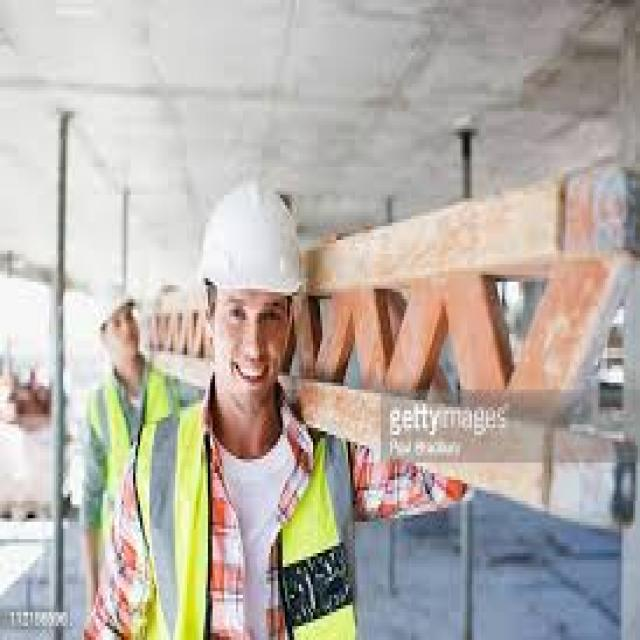Reflective-Jacket: (136, 403, 362, 640), (77, 365, 185, 543)
Safety-Helmet: (189, 174, 318, 313), (86, 268, 150, 341)
